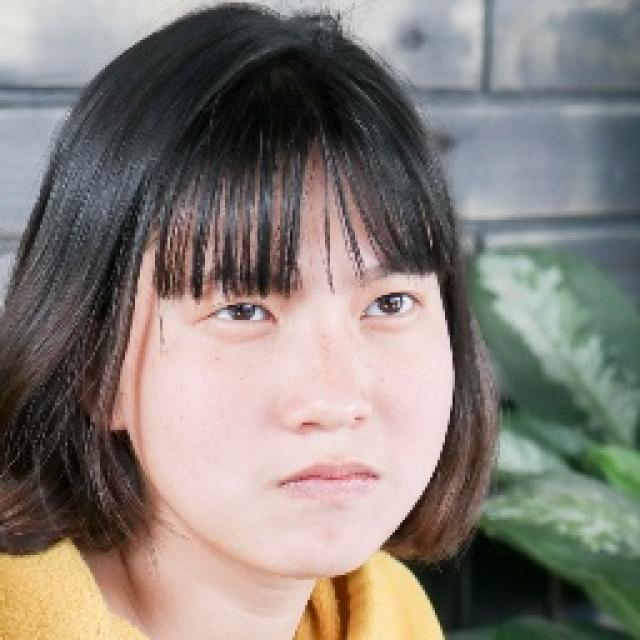earlobe: (82, 394, 134, 438)
eye: (201, 293, 276, 331), (356, 290, 423, 318)
nose: (292, 420, 368, 460)
